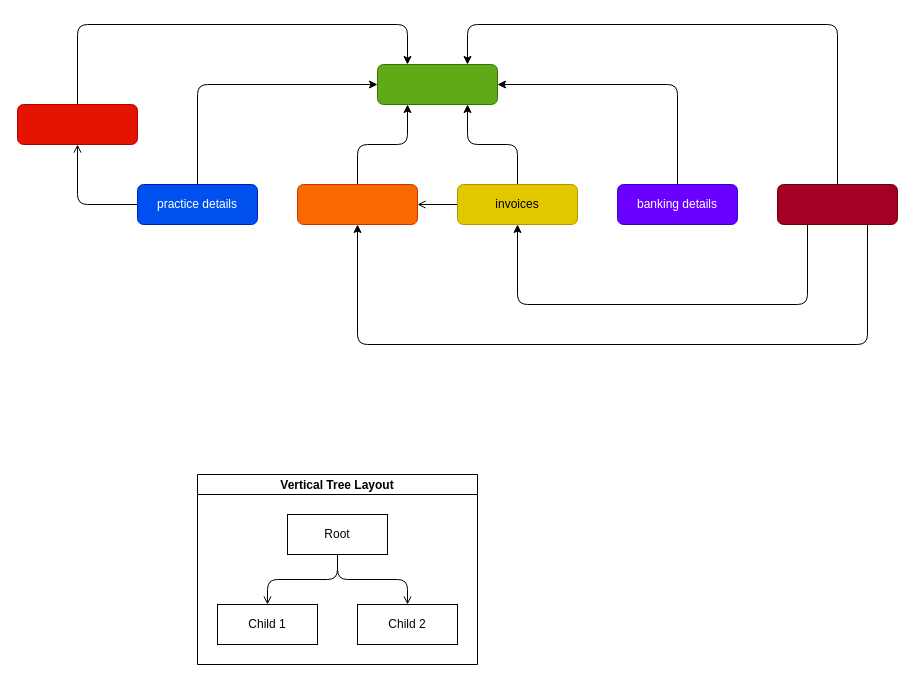
This 915x682 diagram has some shape labels left out. Each missing label, with the centre of its shape:
calendar: the point at 837,204
clients: the point at 357,204
registration details: the point at 77,124
user: the point at 437,84
